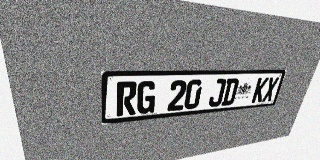0: (183, 79, 203, 110)
2: (167, 80, 187, 111)
D: (221, 78, 240, 106)
G: (136, 81, 157, 114)
J: (208, 79, 227, 107)
K: (251, 77, 269, 103)
R: (116, 81, 137, 116)
X: (262, 77, 279, 102)
